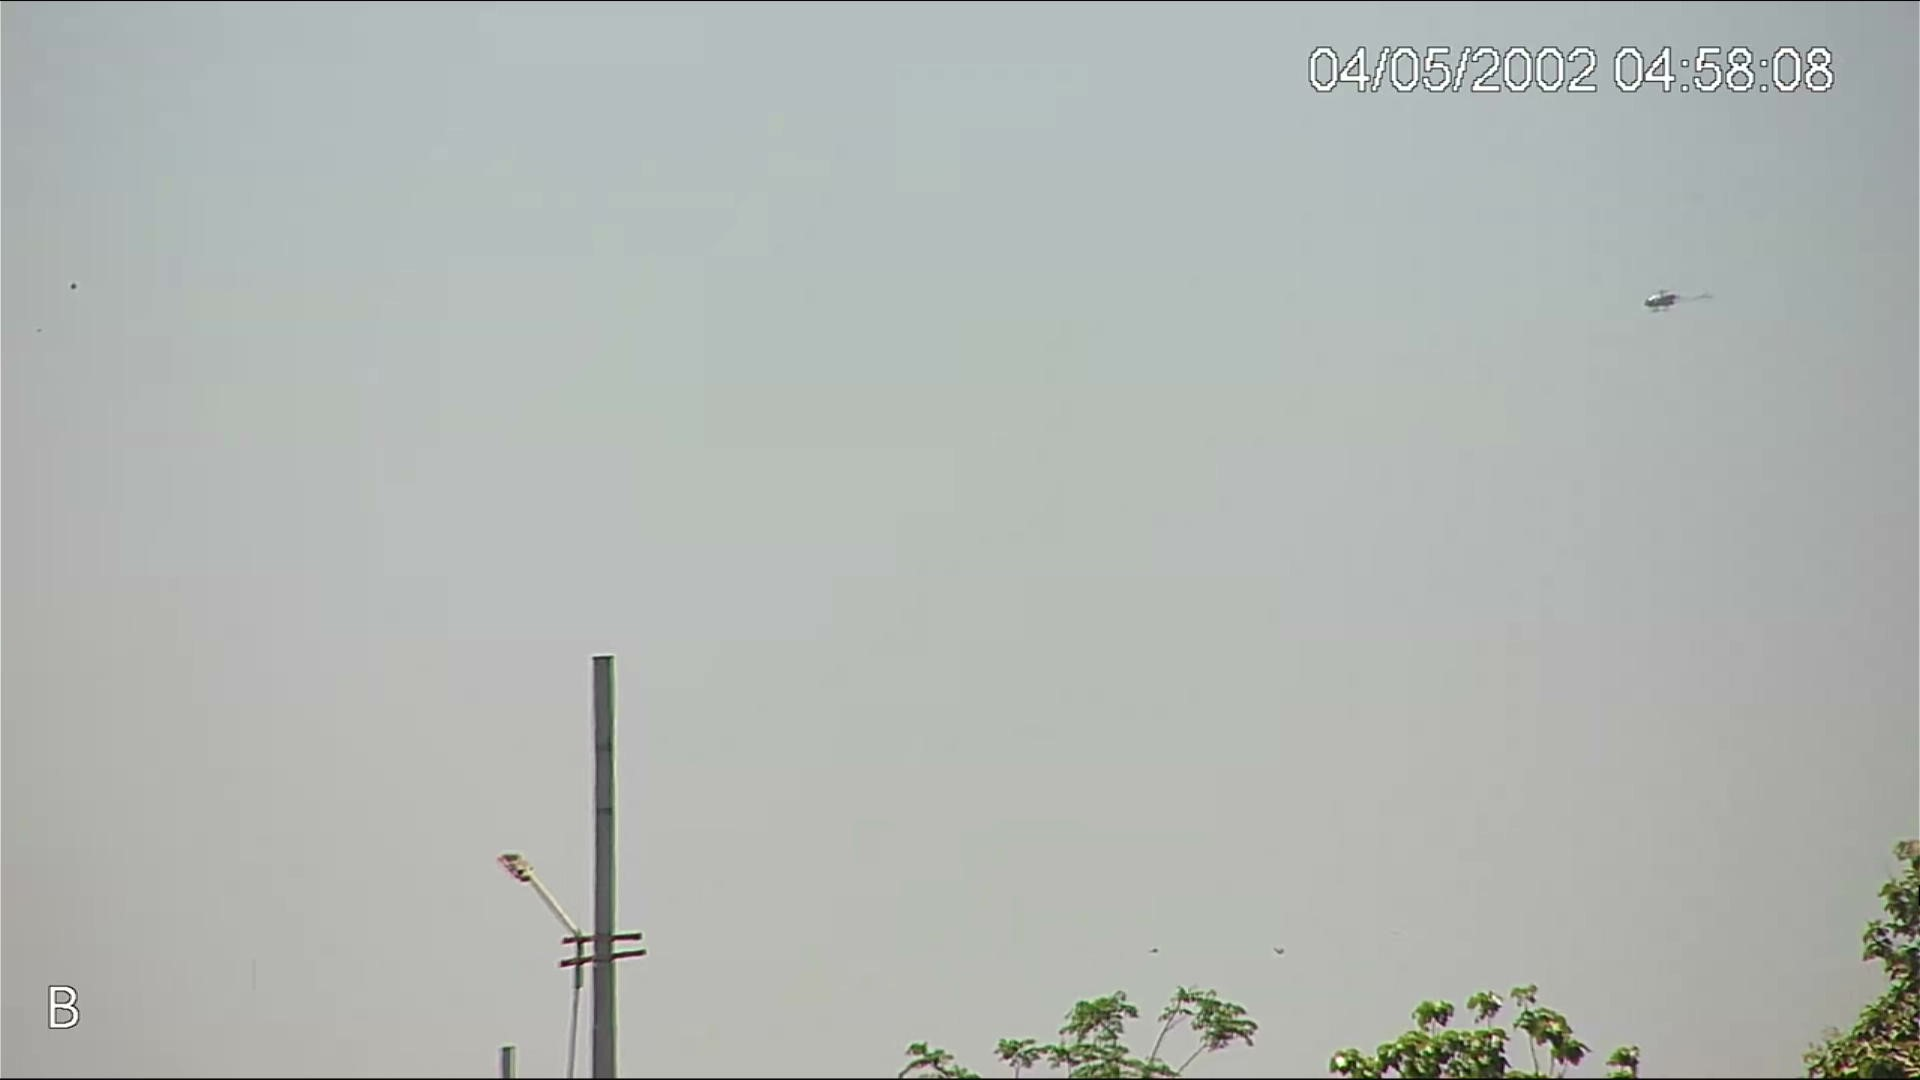SU_30: (1644, 286, 1713, 313)
